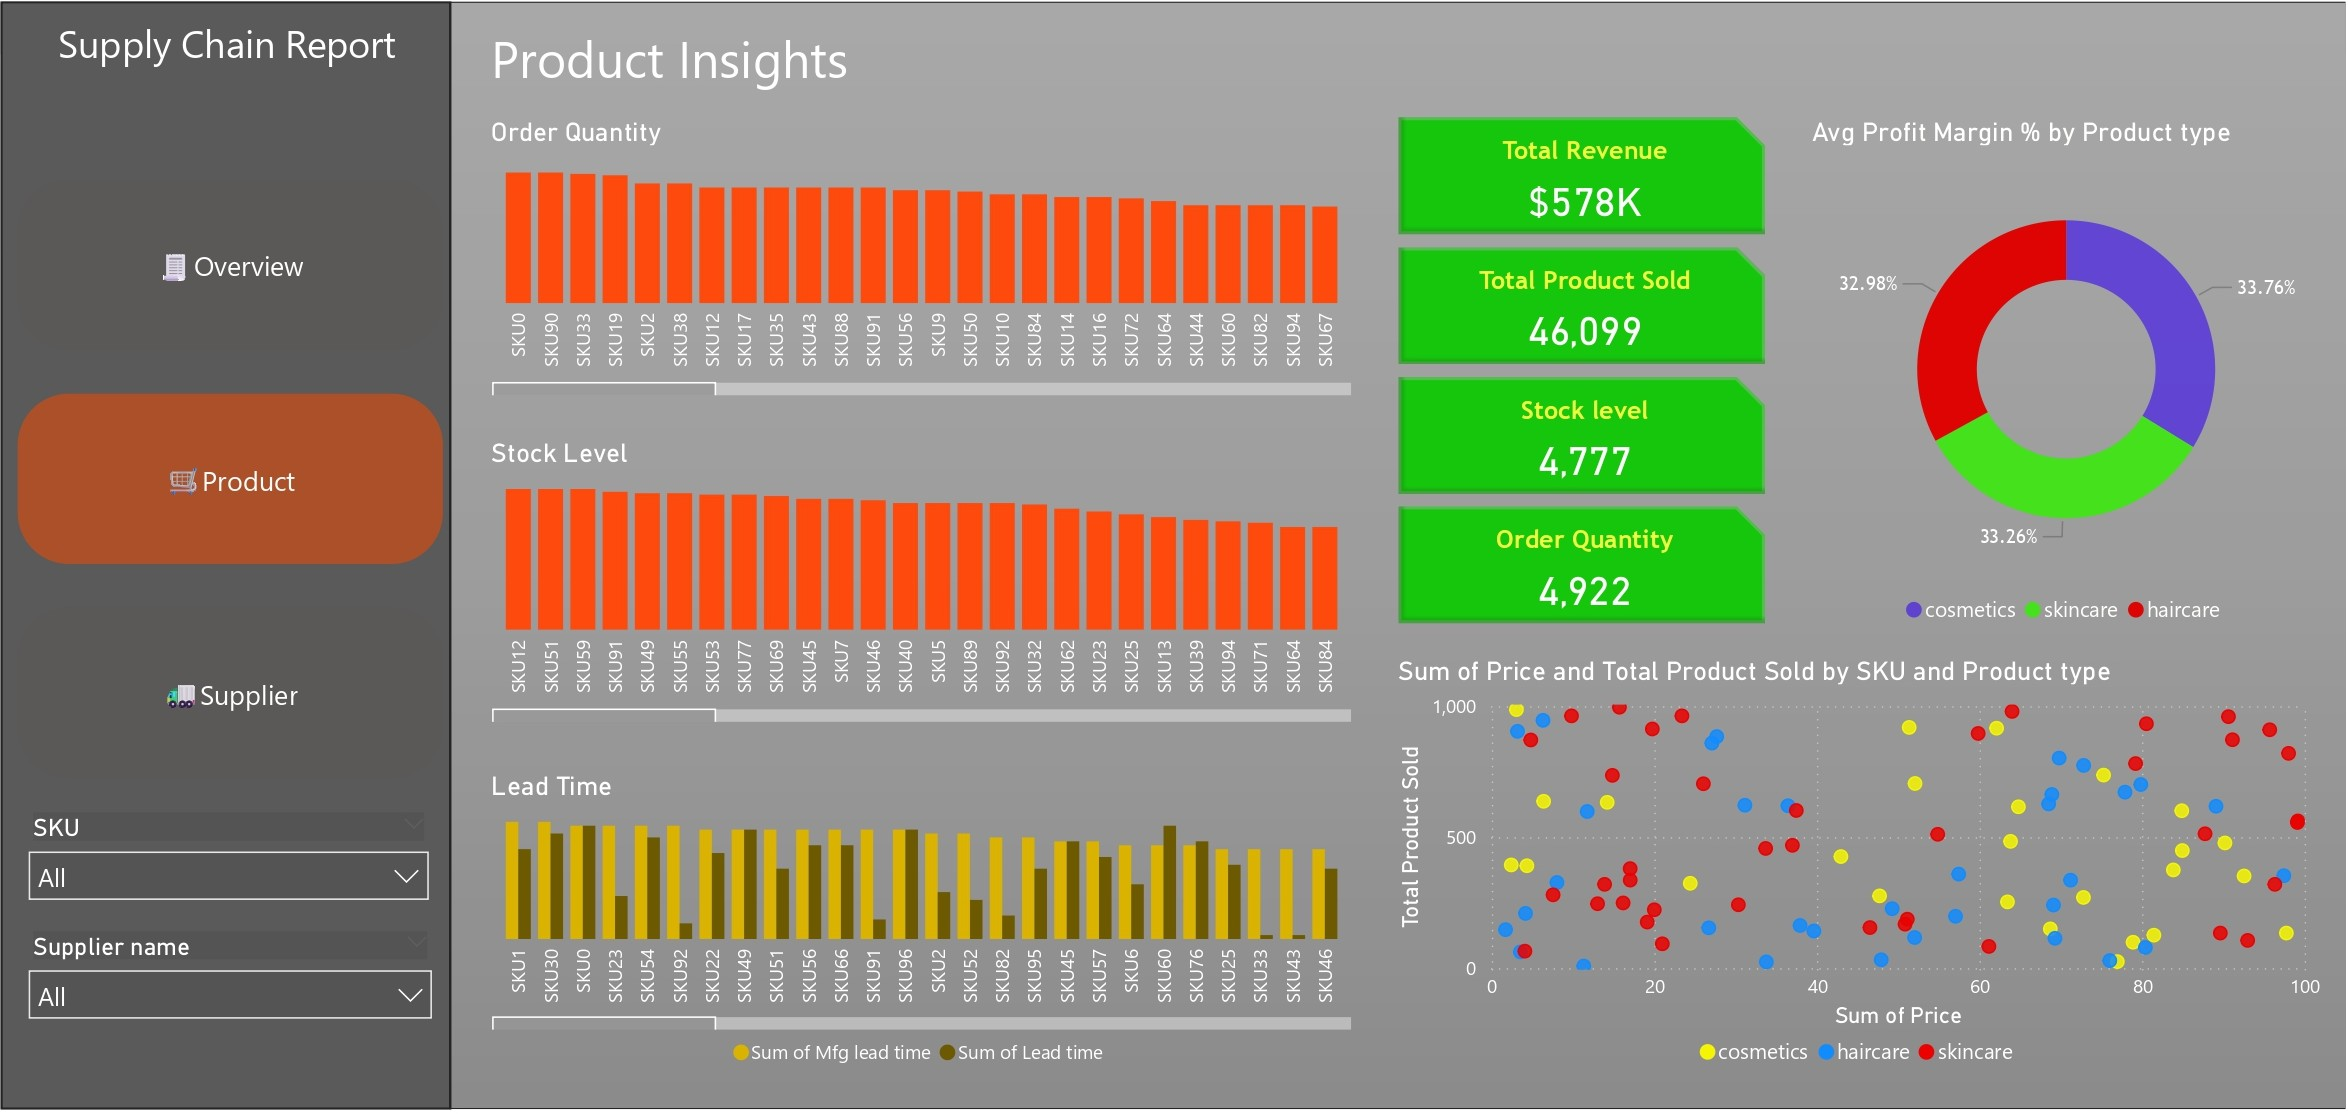

The dashboard page shown, as its layout file describes it:
{"tool":"powerbi","page":{"name":"🛒Product","canvas":[1500,720],"ordinal":1},"visuals":[{"type":"columnChart","title":"Order Quantity ","fields":{"Y":["_Measures.Order Quantity"],"Category":["supply_chain_data (2).SKU"]},"box":[308.9,72.9,560.5,184.5],"z":0},{"type":"pageNavigator","box":[11,114.3,272.2,384.7],"z":0,"group":"g1"},{"type":"columnChart","title":"Stock Level","fields":{"Y":["_Measures.Stock level"],"Category":["supply_chain_data (2).SKU"]},"box":[308.9,278.8,560.5,187.3],"z":1000},{"type":"slicer","fields":{"Values":["supply_chain_data (2).SKU"]},"box":[8.3,514.1,276,74.4],"z":1000,"group":"g1"},{"type":"clusteredColumnChart","title":"Lead Time","fields":{"Category":["supply_chain_data (2).SKU"],"Y":["Sum(supply_chain_data (2).Mfg lead time)","Sum(supply_chain_data (2).Lead time)"]},"box":[308.9,491.9,560.5,198.8],"z":2000},{"type":"slicer","fields":{"Values":["supply_chain_data (2).Supplier name"]},"box":[8.3,589.9,277.4,78.6],"z":2000,"group":"g1"},{"type":"textbox","box":[7.1,4.9,276,77.2],"z":3000,"group":"g1"},{"type":"cardVisual","fields":{"Data":["_Measures.Total Revenue","_Measures.Total Product Sold","_Measures.Stock level","_Measures.Order Quantity"]},"box":[889.4,68.6,244.5,334.6],"z":3000},{"type":"donutChart","fields":{"Category":["supply_chain_data (2).Product type"],"Y":["_Measures.Avg Profit Margin %"]},"box":[1154,72.9,334.6,334.6],"z":4000},{"type":"scatterChart","fields":{"Series":["supply_chain_data (2).Product type"],"Category":["supply_chain_data (2).SKU"],"X":["Sum(supply_chain_data (2).Price)"],"Y":["_Measures.Total Product Sold"]},"box":[889.4,417.5,599.1,273.1],"z":5000},{"type":"textbox","box":[308.9,8.6,280.3,60.1],"z":6000},{"type":"group","id":"g1","title":"Group 1","box":[7.1,4.9,278.6,663.6],"z":7000}]}

Visuals, with their boxes on the page's 1500x720 design canvas (x1, y1, x2, y2). These are canvas units, not pixel positions in the 2348x1114 screenshot, which may show the page scaled, cropped or inside an application window:
"Order Quantity " columnChart: [309, 73, 869, 257]
pageNavigator: [11, 114, 283, 499]
"Stock Level" columnChart: [309, 279, 869, 466]
slicer - supply_chain_data (2).SKU: [8, 514, 284, 588]
"Lead Time" clusteredColumnChart: [309, 492, 869, 691]
slicer - supply_chain_data (2).Supplier name: [8, 590, 286, 668]
textbox: [7, 5, 283, 82]
cardVisual - _Measures.Total Revenue x _Measures.Total Product Sold: [889, 69, 1134, 403]
donutChart - supply_chain_data (2).Product type x _Measures.Avg Profit Margin %: [1154, 73, 1489, 408]
scatterChart - supply_chain_data (2).Product type x supply_chain_data (2).SKU: [889, 418, 1488, 691]
textbox: [309, 9, 589, 69]
"Group 1" group: [7, 5, 286, 668]
